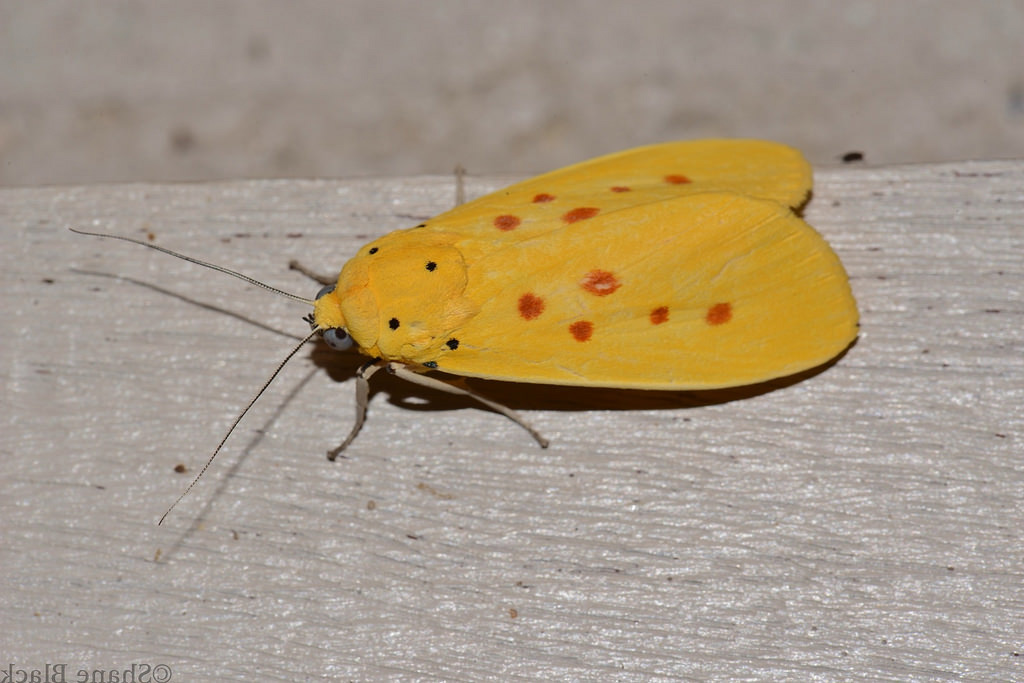Agape chloropyga: (61, 134, 869, 530)
moth: (59, 132, 867, 528)
